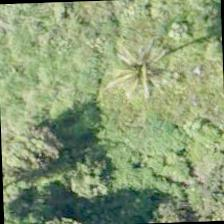Kelapa_Sawit: (95, 22, 188, 116)
